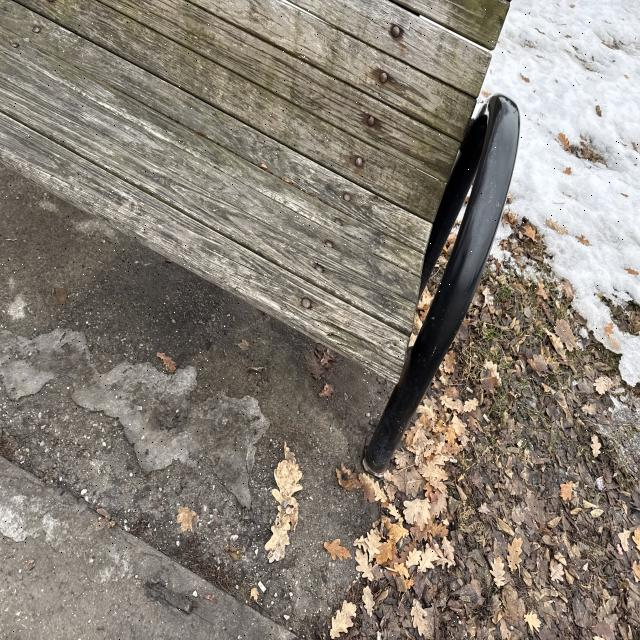Bench: (0, 0, 528, 448)
